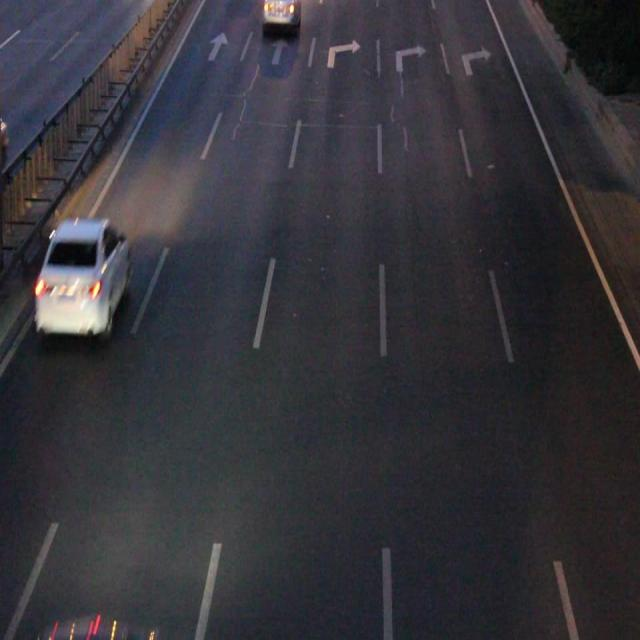car: (38, 219, 130, 333), (263, 1, 299, 30)
